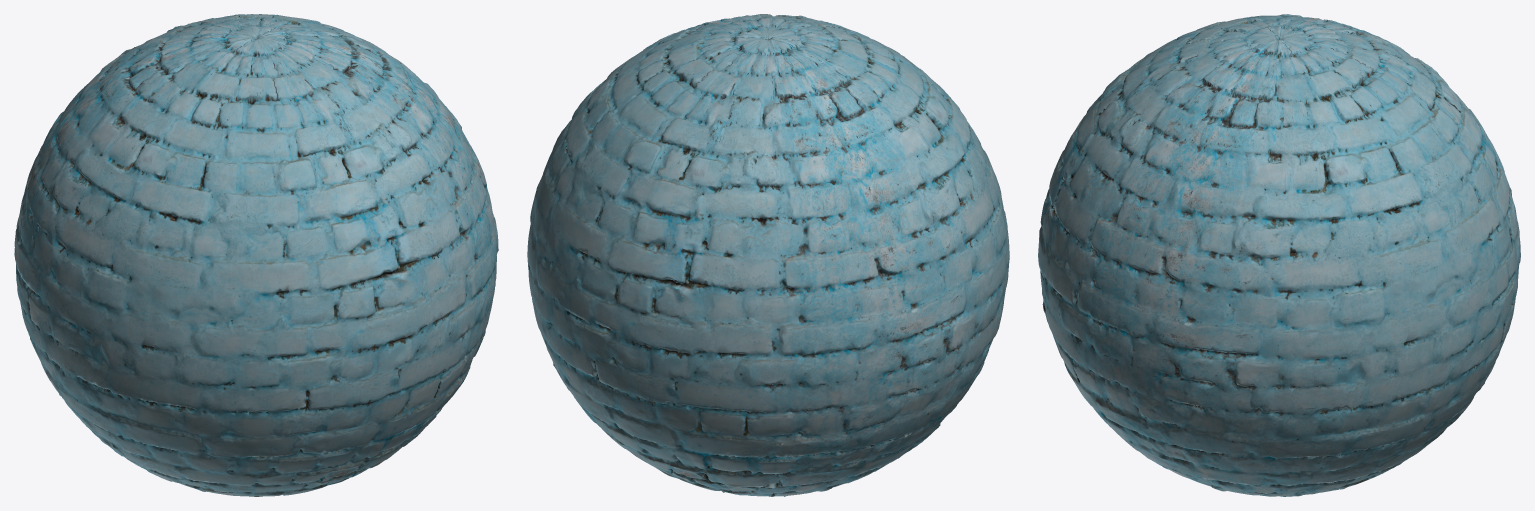
The model's file is painted_brick_2k.gltf.
The picture shows the model from 3 angles, left to right: view 1: azimuth 30°, elevation 25°; view 2: azimuth 150°, elevation 25°; view 3: azimuth 270°, elevation 25°; orthographic projection.
Visible parts, largest first — view 1: sphere_gltf; view 2: sphere_gltf; view 3: sphere_gltf.
Boxes of the visible parts, x1,y1,x2,y2 form: sphere_gltf: (14,14,498,496); sphere_gltf: (527,14,1009,496); sphere_gltf: (1038,14,1520,496).
Size of the model in its own units: 1.84 by 1.85 by 1.85.
1 material, 1 textured.
